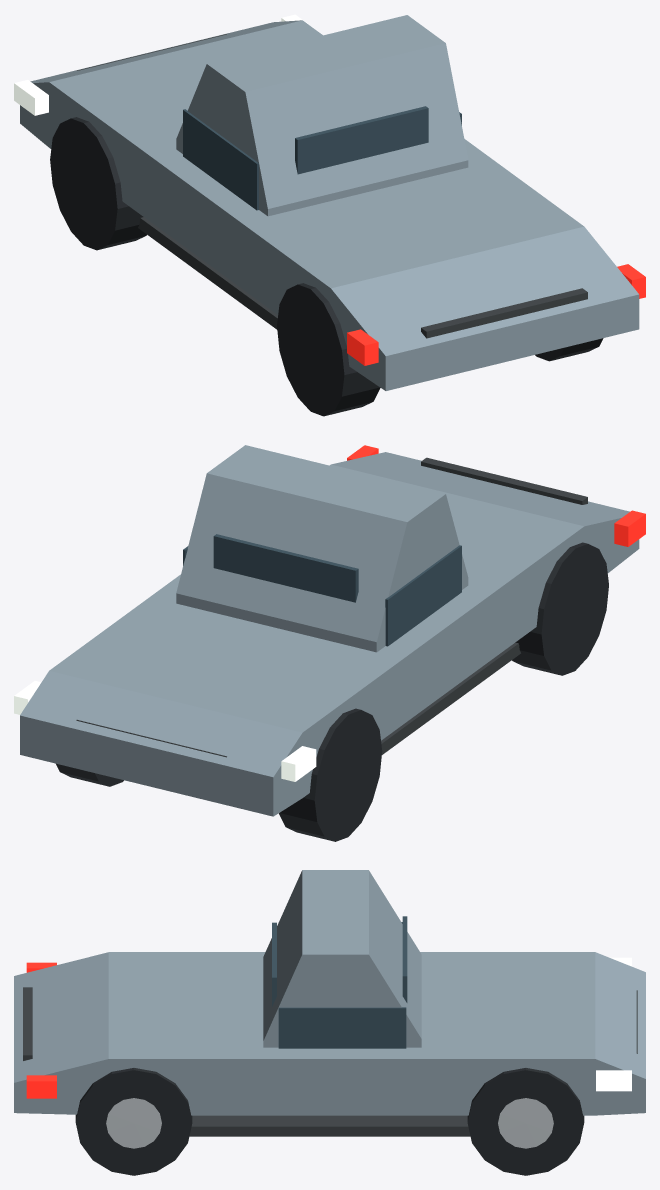
File: ford-ranger-wildtrak-2025.glb
The picture shows the model from 3 angles, top to bottom: view 1: azimuth 30°, elevation 25°; view 2: azimuth 150°, elevation 25°; view 3: azimuth 270°, elevation 25°; orthographic projection. The views are drawn at different scales.
Visible parts, largest first — view 1: ford-ranger-wildtrak-2025 illustrative model; view 2: ford-ranger-wildtrak-2025 illustrative model; view 3: ford-ranger-wildtrak-2025 illustrative model.
Part boxes in pixels (box(x1,y1,x2,y2)): ford-ranger-wildtrak-2025 illustrative model: box(14, 14, 645, 416); ford-ranger-wildtrak-2025 illustrative model: box(14, 445, 645, 841); ford-ranger-wildtrak-2025 illustrative model: box(14, 870, 645, 1175).
Size of the model in its own units: 2.02 by 1.65 by 4.55.
